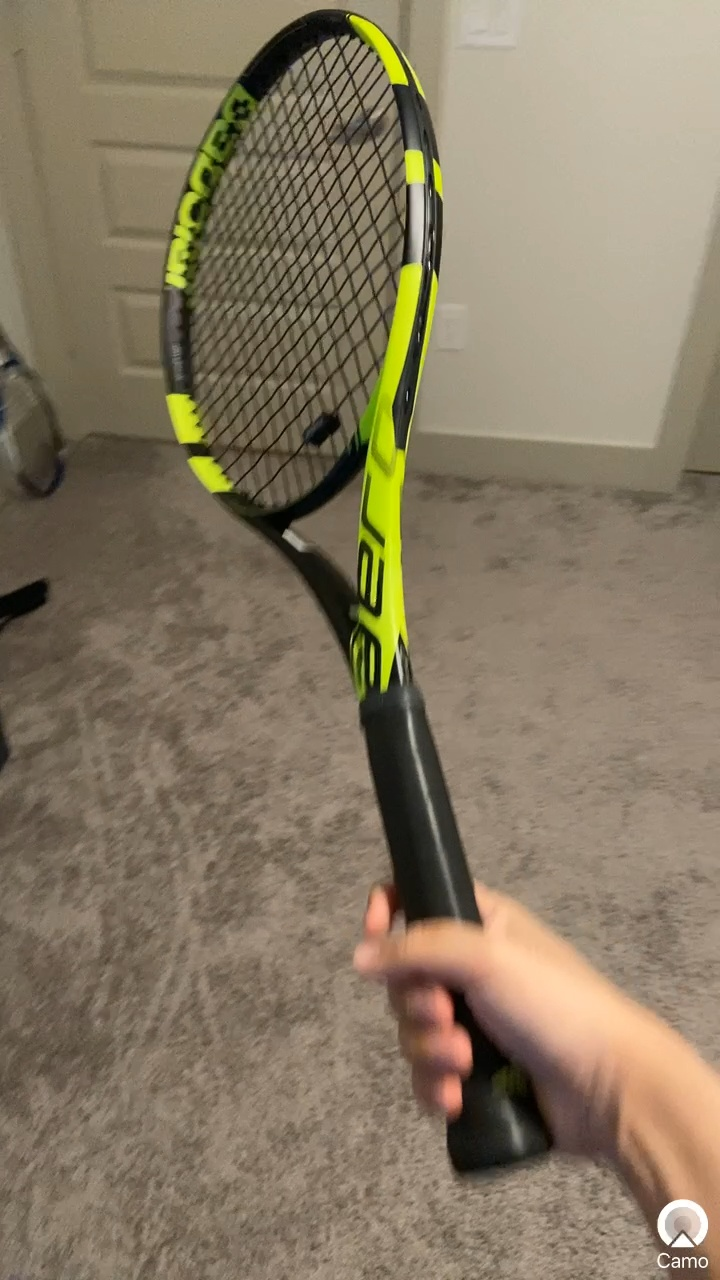Tennis_Racquet: (116, 4, 605, 1195)
